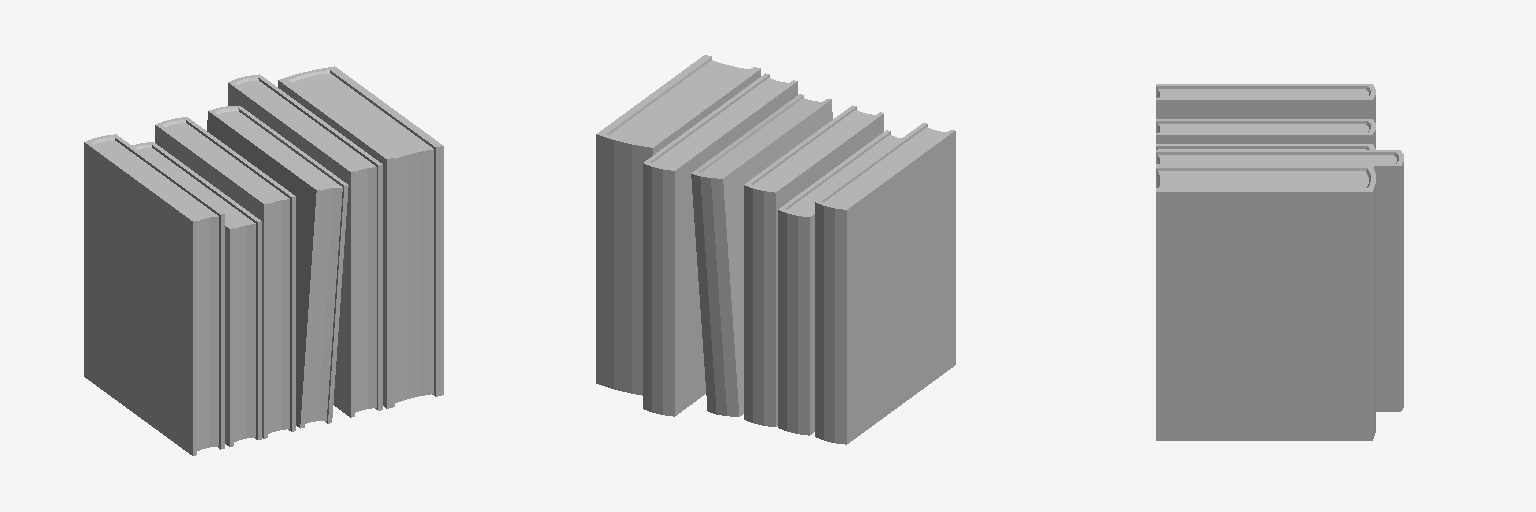
File: pcity_nodes_books_1.obj
3 views of the same model, side by side, from view 1: azimuth 30°, elevation 25°; view 2: azimuth 150°, elevation 25°; view 3: azimuth 270°, elevation 25° (orthographic).
Visible parts, largest first — view 1: Books_1; view 2: Books_1; view 3: Books_1.
Boxes of the visible parts, x1,y1,x2,y2 form: Books_1: [84, 66, 443, 455]; Books_1: [596, 55, 955, 444]; Books_1: [1156, 84, 1403, 440].
Size of the model in its own units: 0.7822 by 0.7462 by 0.6715.